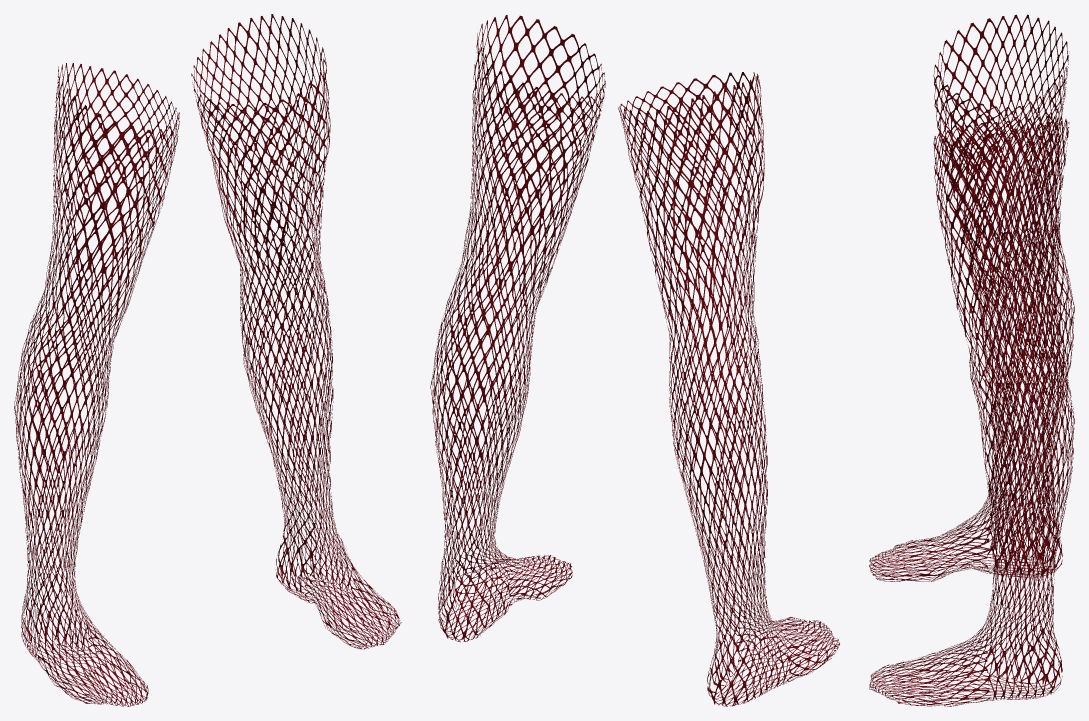
Rendered from mhw_marco_105_stocking02.glb.
The picture shows the model from 3 angles, left to right: view 1: azimuth 30°, elevation 25°; view 2: azimuth 150°, elevation 25°; view 3: azimuth 270°, elevation 25°; orthographic projection. The views are drawn at different scales.
Visible parts, largest first — view 1: mhw_marco_105_stocking02; view 2: mhw_marco_105_stocking02; view 3: mhw_marco_105_stocking02.
Boxes of the visible parts, <box> form: mhw_marco_105_stocking02: <box>14,14,401,706</box>; mhw_marco_105_stocking02: <box>430,15,839,706</box>; mhw_marco_105_stocking02: <box>869,14,1074,706</box>.
Bounding box in the file's own units: 0.5387 × 0.9033 × 0.2983.
Materials: 1 (1 with a texture image).
